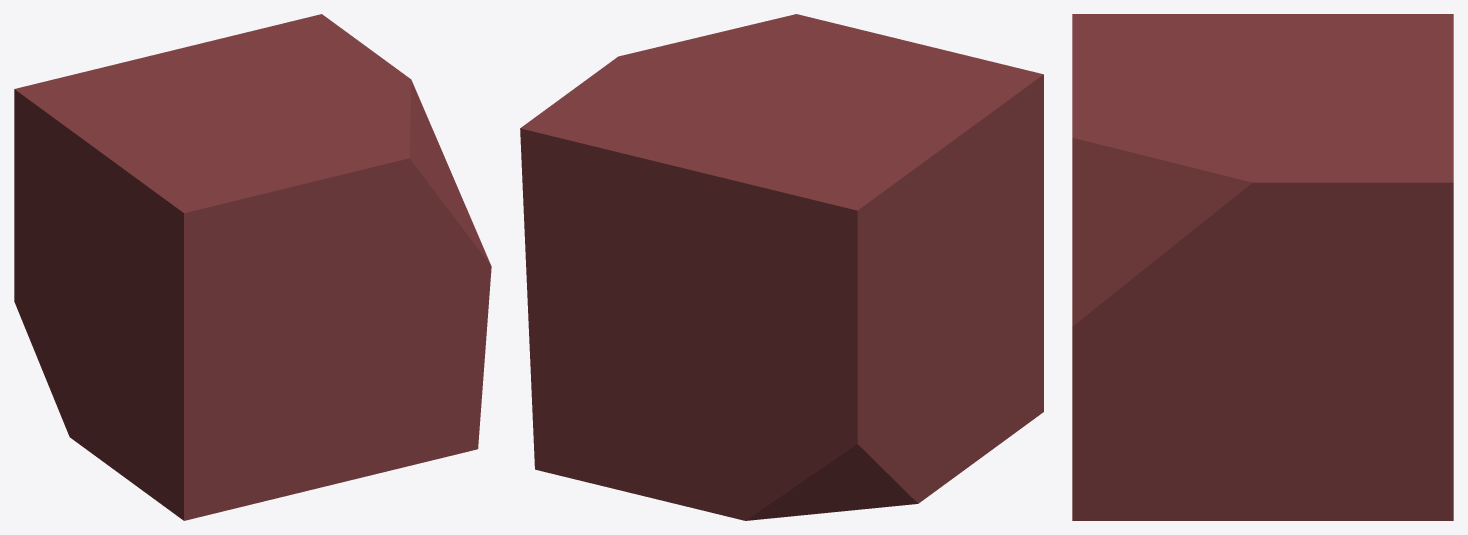
Rendered from pillar_corner_element_3.fbx.
3 renders of one model, left to right at view 1: azimuth 30°, elevation 25°; view 2: azimuth 150°, elevation 25°; view 3: azimuth 270°, elevation 25°, orthographic. The views are drawn at different scales.
Visible parts, largest first — view 1: pillar_corner_element_3; view 2: pillar_corner_element_3; view 3: pillar_corner_element_3.
Part boxes in pixels (x1,y1,x2,y2): pillar_corner_element_3: (14,14,491,520); pillar_corner_element_3: (520,14,1043,520); pillar_corner_element_3: (1072,14,1453,520).
Size of the model in its own units: 26.15 by 25 by 25.
